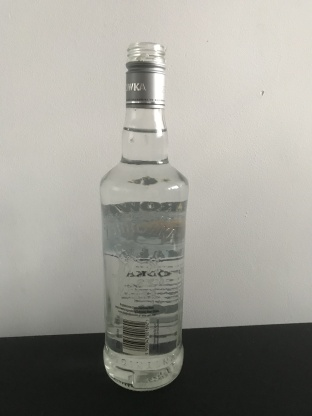nakretka: (123, 38, 166, 111)
